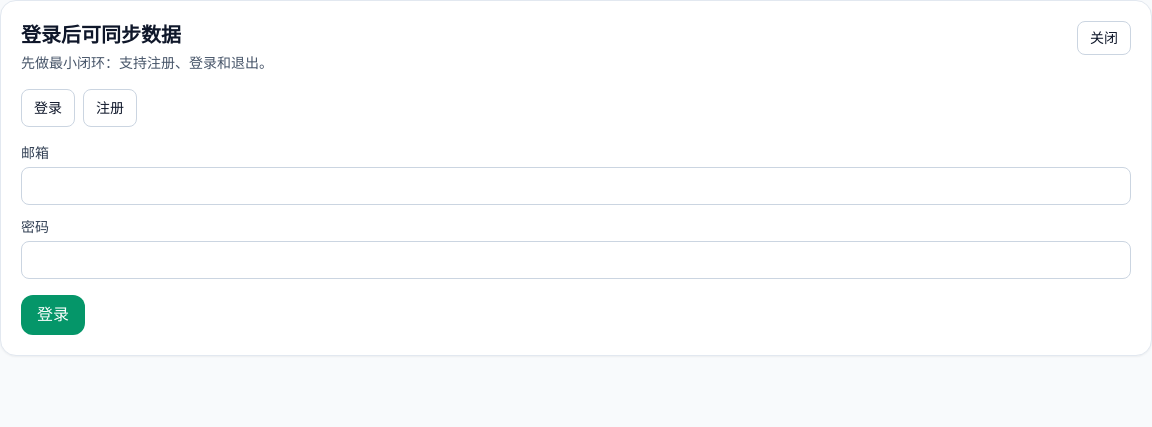
Test case: AuthDialog › shows login error instead of throwing an unhandled rejection
Type "demo@example.com" into the field labelled "邮箱".
click(576, 186); type("demo@example.com")  # box top-left (21, 167), bottom-right (1131, 205)
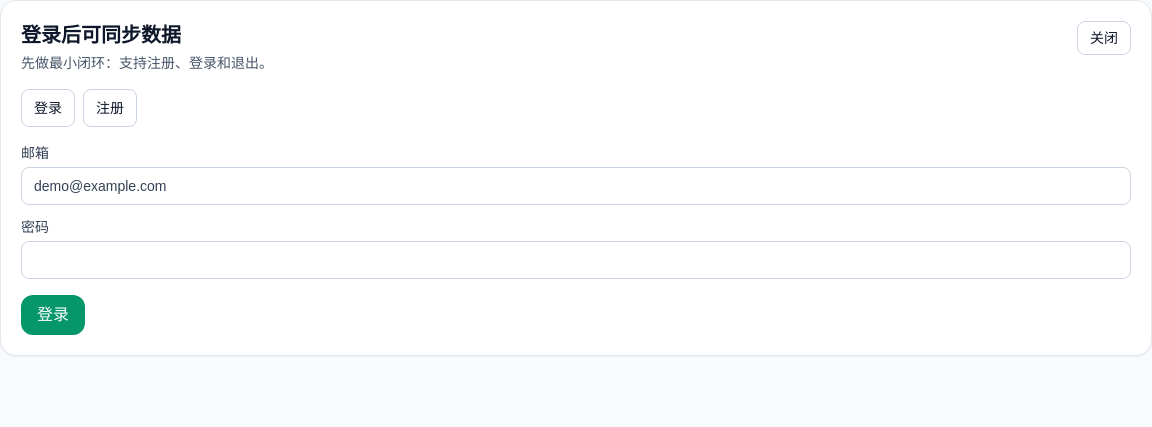
Type "wrong-password" into the password field labelled "密码".
click(576, 260); type("wrong-password")  # box top-left (21, 241), bottom-right (1131, 279)
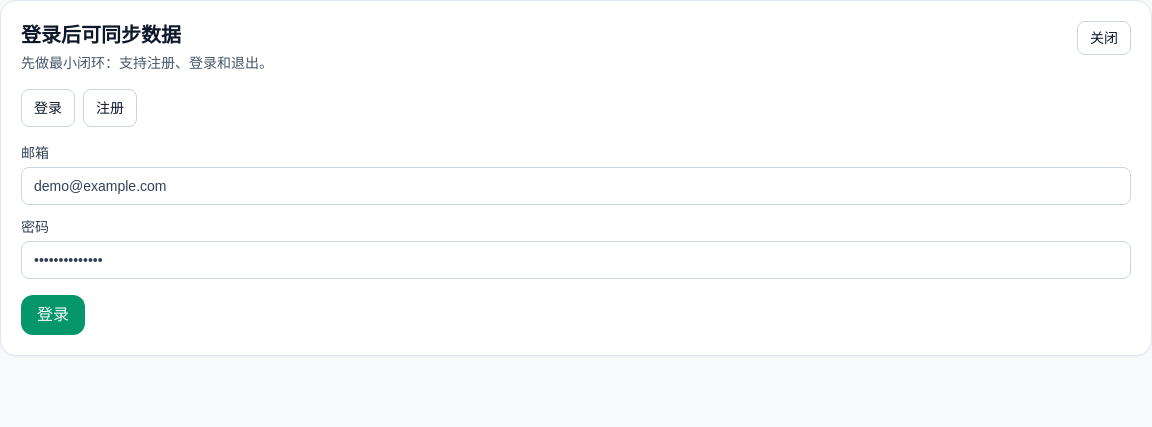
Click the button with aria-label "提交登录".
click(53, 315)  # box top-left (21, 295), bottom-right (85, 335)
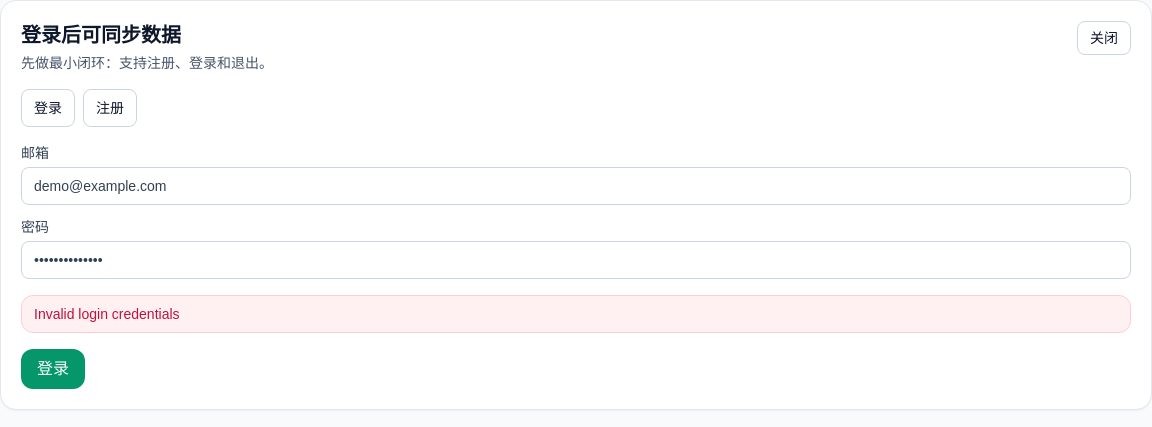
Expected: the heading "登录后可同步数据" is shown, top-left (21, 24), bottom-right (181, 46)
Result: the text "Invalid login credentials" is shown at top-left (21, 295), bottom-right (1131, 333)
